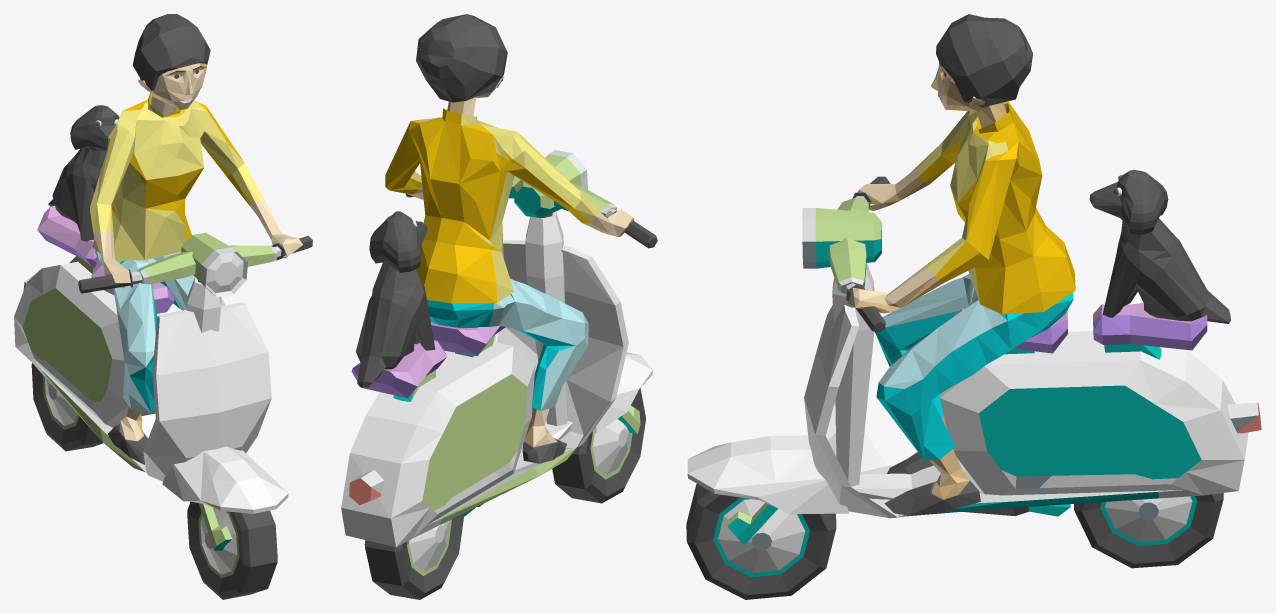
The model's file is Moto.glb.
3 renders of one model, left to right at view 1: azimuth 30°, elevation 25°; view 2: azimuth 150°, elevation 25°; view 3: azimuth 270°, elevation 25°, orthographic. The views are drawn at different scales.
Visible parts, largest first — view 1: group861611824, group399081721; view 2: group861611824, group399081721; view 3: group861611824, group399081721.
Boxes of the visible parts, x1,y1,x2,y2 form: group861611824: [14, 14, 312, 599]; group399081721: [48, 105, 119, 241]; group861611824: [341, 14, 657, 599]; group399081721: [356, 211, 435, 387]; group861611824: [686, 14, 1261, 599]; group399081721: [1089, 169, 1230, 323].
Bounding box in the file's own units: 1.1 × 2.26 × 1.99.
